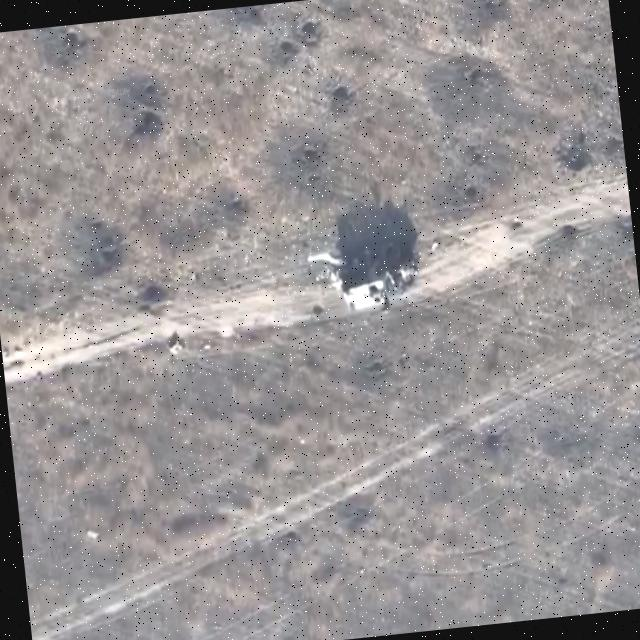APC: (335, 234, 426, 318)
